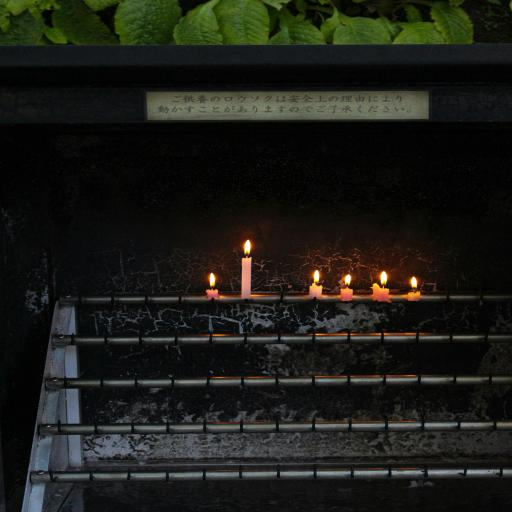candlelight: (239, 243, 252, 298), (203, 274, 219, 301), (339, 274, 353, 302), (407, 277, 421, 302), (309, 270, 320, 300), (378, 272, 388, 302)
